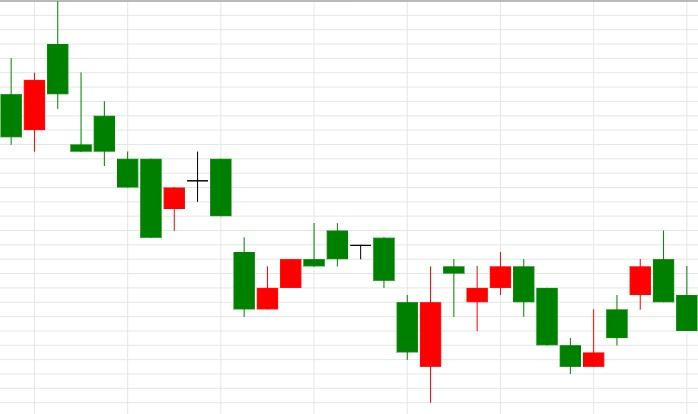bullish_engulfing_rise: (327, 222, 442, 402)
inverse_hammer_rise: (489, 251, 605, 374)
